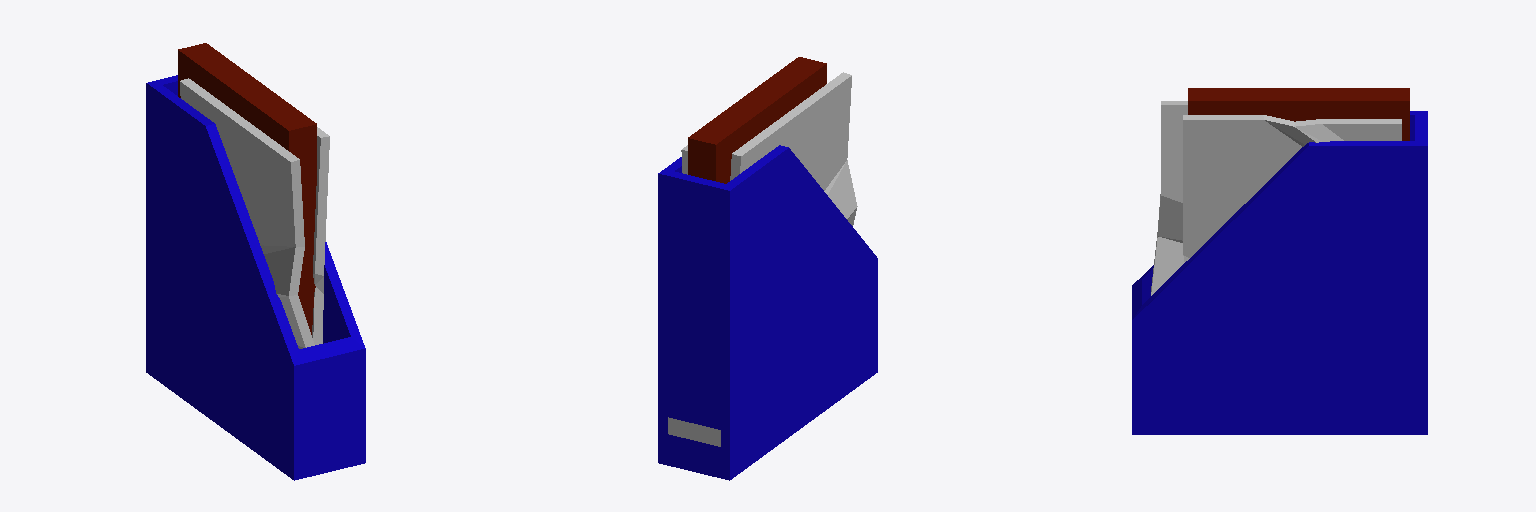
File: Folder_Holder_full.01.obj
The picture shows the model from 3 angles: view 1: azimuth 30°, elevation 25°; view 2: azimuth 150°, elevation 25°; view 3: azimuth 270°, elevation 25°; orthographic projection.
Visible parts, largest first — view 1: Folder_Holder_full.01; view 2: Folder_Holder_full.01; view 3: Folder_Holder_full.01.
Part boxes in pixels (left/top/right/bottom): Folder_Holder_full.01: left=146, top=43, right=365, bottom=480; Folder_Holder_full.01: left=658, top=57, right=877, bottom=480; Folder_Holder_full.01: left=1132, top=88, right=1427, bottom=434.
Bounding box in the file's own units: 0.0918 × 0.3974 × 0.3286.